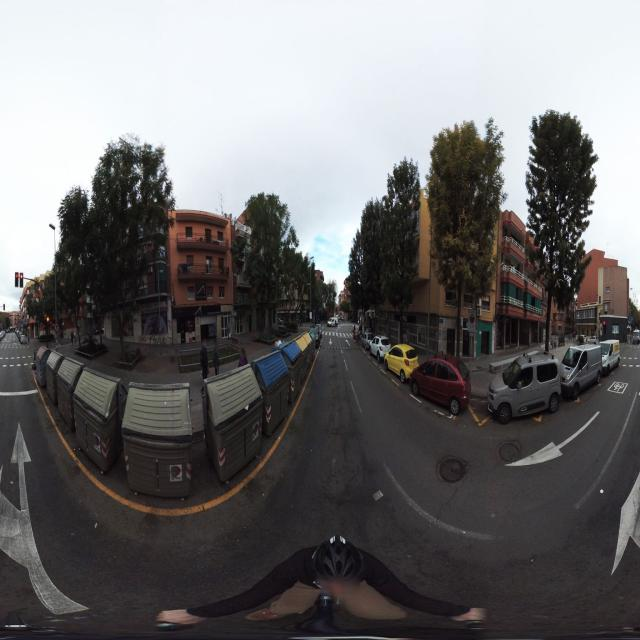forb_stopping: (469, 314, 474, 324)
